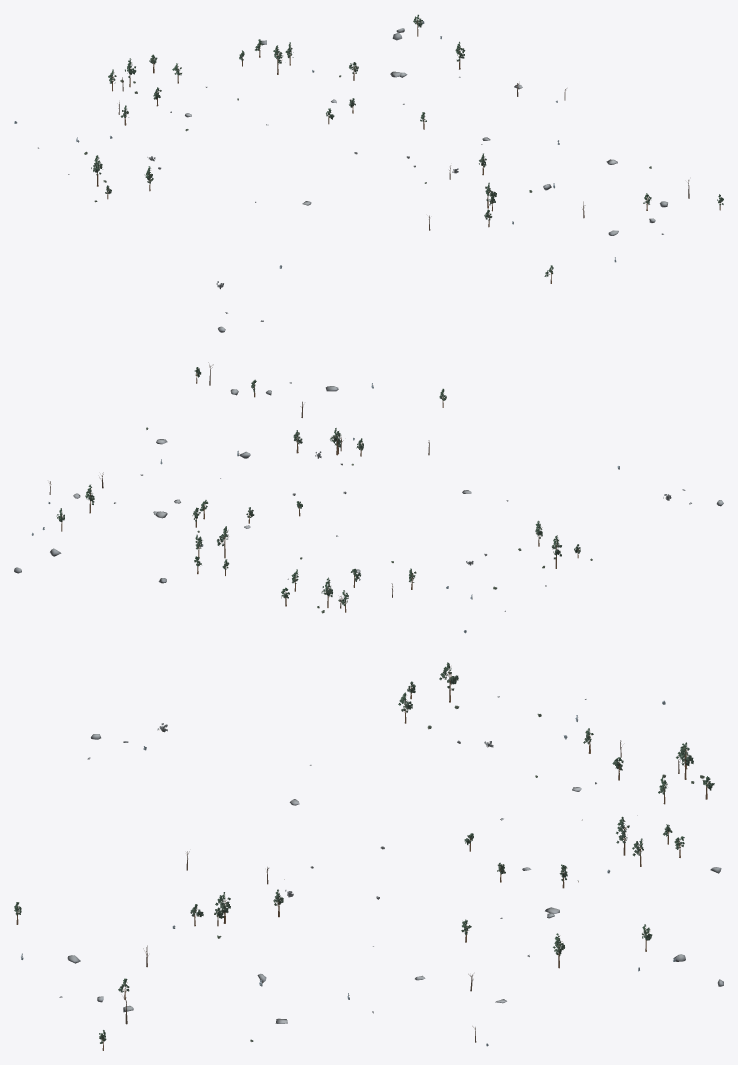
The model's file is frost_land_scatter_c14_11.glb.
3 views of the same model, one above another, from view 1: azimuth 30°, elevation 25°; view 2: azimuth 150°, elevation 25°; view 3: azimuth 270°, elevation 25° (orthographic). The views are drawn at different scales.
Visible parts, largest first — view 1: frost_land_scatter_c14_11; view 2: frost_land_scatter_c14_11; view 3: frost_land_scatter_c14_11.
Boxes of the visible parts, x1,y1,x2,y2 form: frost_land_scatter_c14_11: [14, 14, 723, 332]; frost_land_scatter_c14_11: [14, 362, 723, 633]; frost_land_scatter_c14_11: [14, 662, 723, 1050].
Bounding box in the file's own units: 256 × 35.97 × 247.
